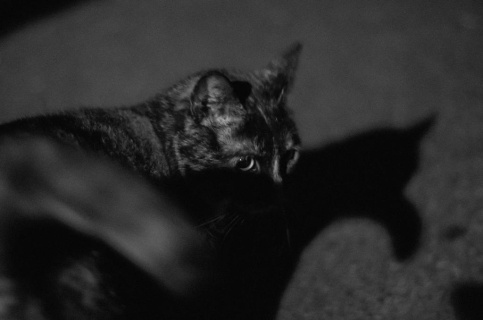Cat: (0, 36, 308, 319)
